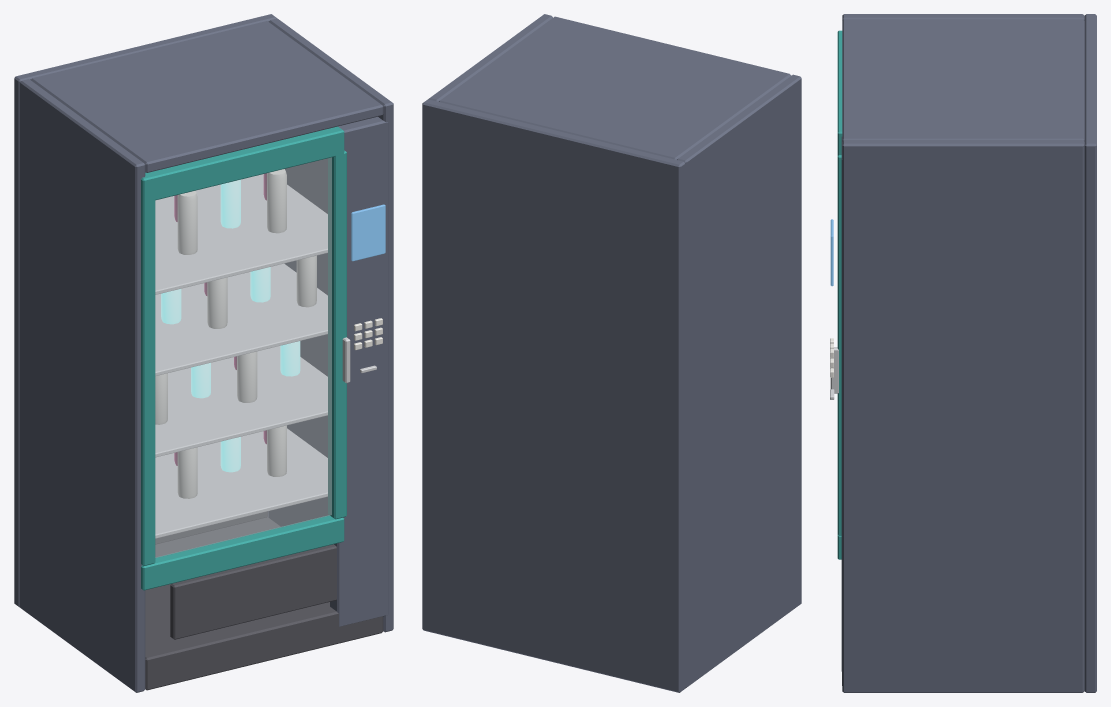
File: bowling-alley-and-pool-hall-vending-machine-d892b716__33870.glb
The picture shows the model from 3 angles, left to right: view 1: azimuth 30°, elevation 25°; view 2: azimuth 150°, elevation 25°; view 3: azimuth 270°, elevation 25°; orthographic projection. The views are drawn at different scales.
Parts seen in each view (by area): view 1: vending-machine, vending-door/glass, vending-door/cloth; view 2: vending-machine; view 3: vending-machine, vending-door/cloth.
Boxes of the visible parts, x1,y1,x2,y2 form: vending-machine: [14, 14, 393, 692]; vending-door/glass: [155, 157, 331, 557]; vending-door/cloth: [141, 126, 346, 590]; vending-machine: [422, 14, 801, 692]; vending-machine: [830, 14, 1096, 692]; vending-door/cloth: [837, 30, 842, 559].
Size of the model in its own units: 1 by 1.95 by 0.859.
